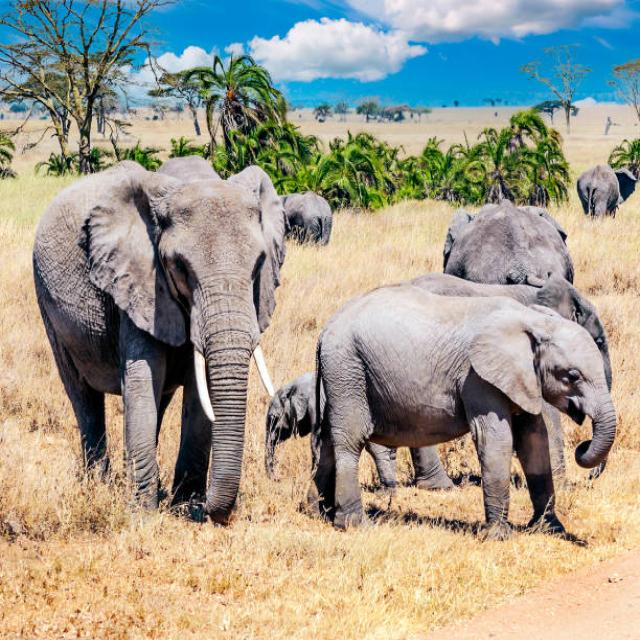Elephant: (22, 145, 261, 542), (322, 256, 639, 554), (434, 172, 580, 300), (576, 126, 639, 240), (285, 162, 349, 254)
